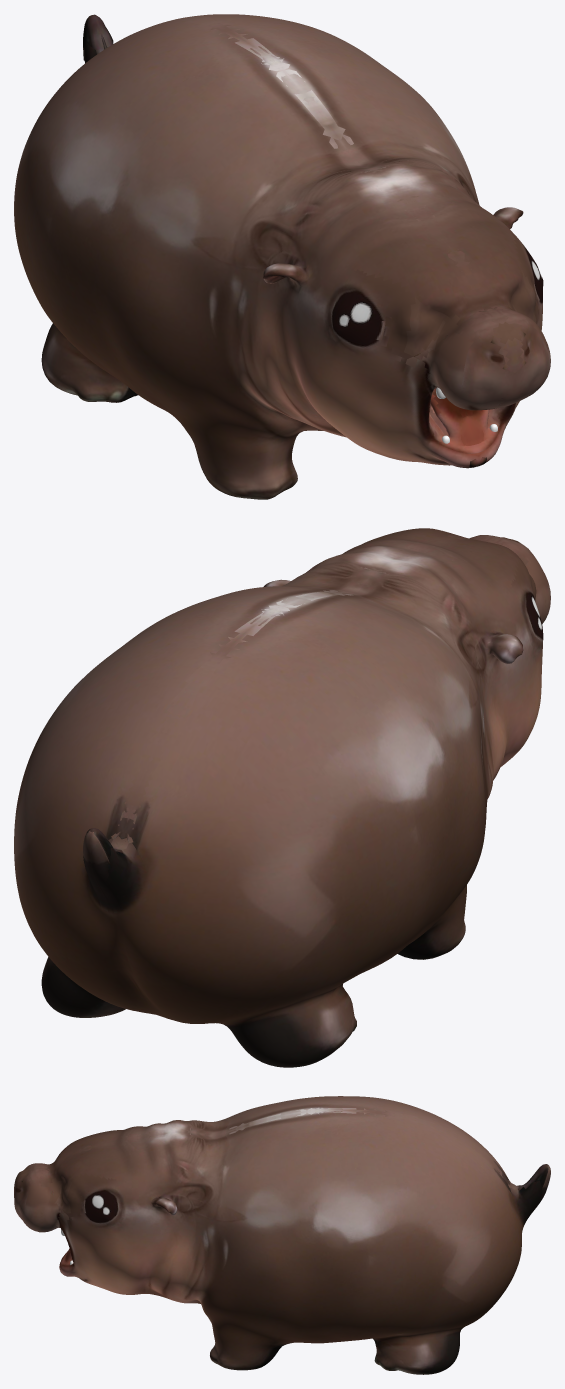
The model's file is moodeng.glb.
The picture shows the model from 3 angles, top to bottom: view 1: azimuth 30°, elevation 25°; view 2: azimuth 150°, elevation 25°; view 3: azimuth 270°, elevation 25°; orthographic projection. The views are drawn at different scales.
Visible parts, largest first — view 1: Mesh_0_Material_0_0; view 2: Mesh_0_Material_0_0; view 3: Mesh_0_Material_0_0.
Part boxes in pixels (x1,y1,x2,y2): Mesh_0_Material_0_0: (14,14,550,499); Mesh_0_Material_0_0: (14,528,550,1067); Mesh_0_Material_0_0: (14,1096,550,1374).
Bounding box in the file's own units: 3.21 × 2.97 × 6.35.
2 materials, 1 textured.
